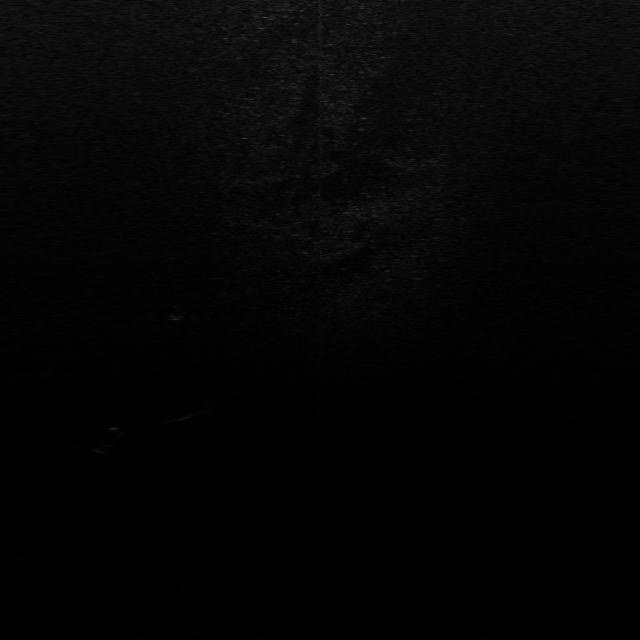ball: (192, 392, 222, 418)
circle cage: (166, 305, 190, 322)
tyre: (87, 426, 123, 454)
